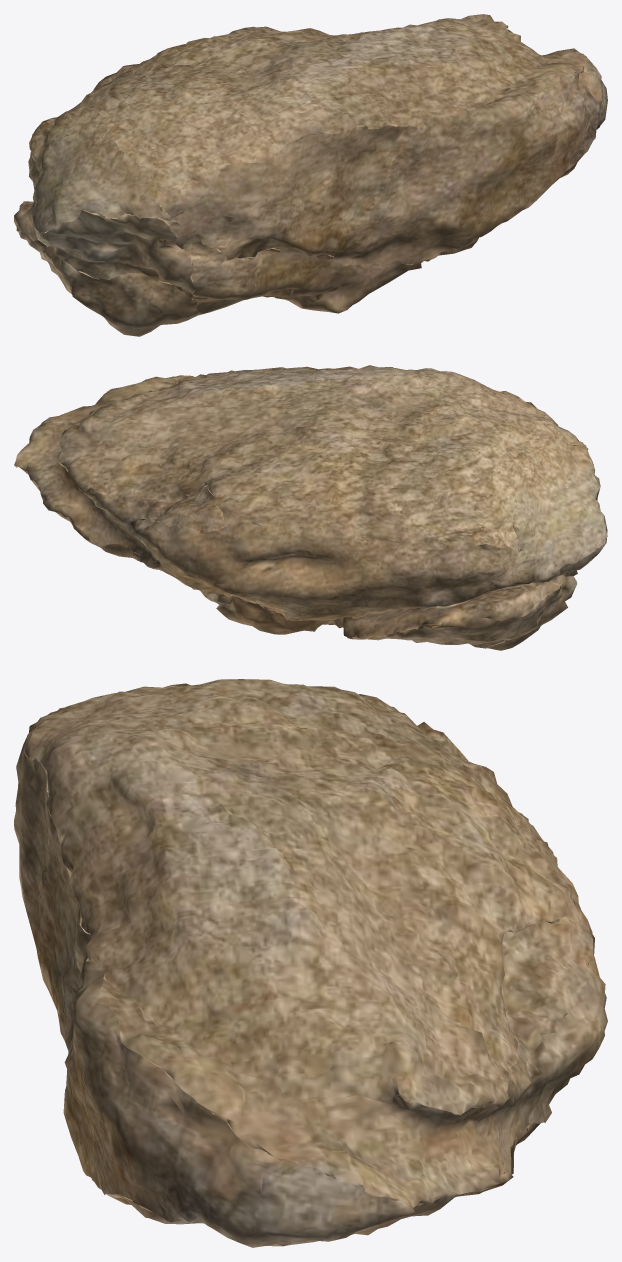
The model's file is limestone.glb.
The picture shows the model from 3 angles, top to bottom: view 1: azimuth 30°, elevation 25°; view 2: azimuth 150°, elevation 25°; view 3: azimuth 270°, elevation 25°; orthographic projection. The views are drawn at different scales.
Visible parts, largest first — view 1: namaqualand_boulder_05; view 2: namaqualand_boulder_05; view 3: namaqualand_boulder_05.
Part boxes in pixels (<box>): namaqualand_boulder_05: <box>14,14,607,336</box>; namaqualand_boulder_05: <box>14,365,607,650</box>; namaqualand_boulder_05: <box>14,679,607,1247</box>.
Bounding box in the file's own units: 1.37 × 0.5345 × 0.7459.
1 material, 1 textured.
